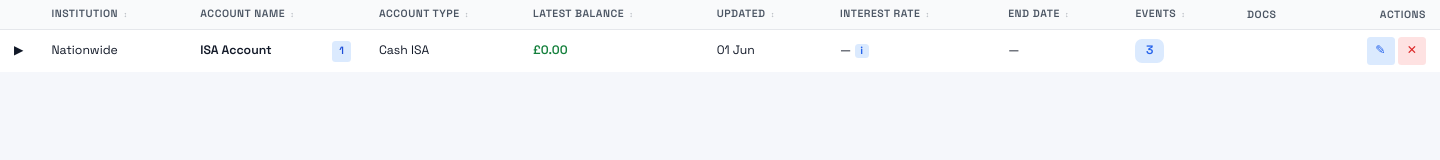
Scenario: PortfolioTable › toggleGroup expands group members on click
Click the row with class "group-row".
click(720, 51)  # box [0, 30, 1439, 72]
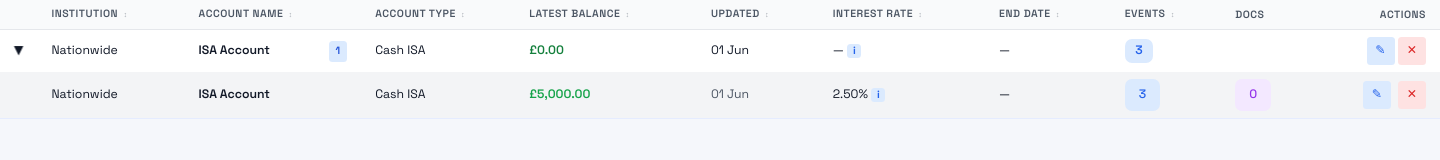
Result: the 3rd row is shown at [0, 72, 1439, 118]
